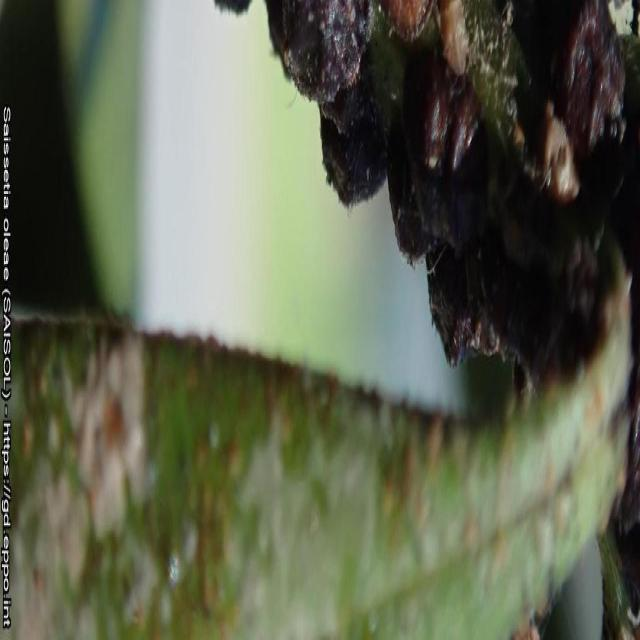Black Scale: (266, 0, 640, 388)
